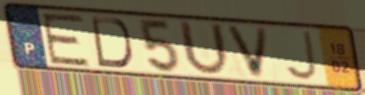5: (134, 18, 184, 75)
D: (89, 15, 136, 70)
E: (39, 12, 93, 68)
J: (282, 29, 320, 82)
U: (176, 18, 232, 78)
V: (223, 23, 271, 81)
